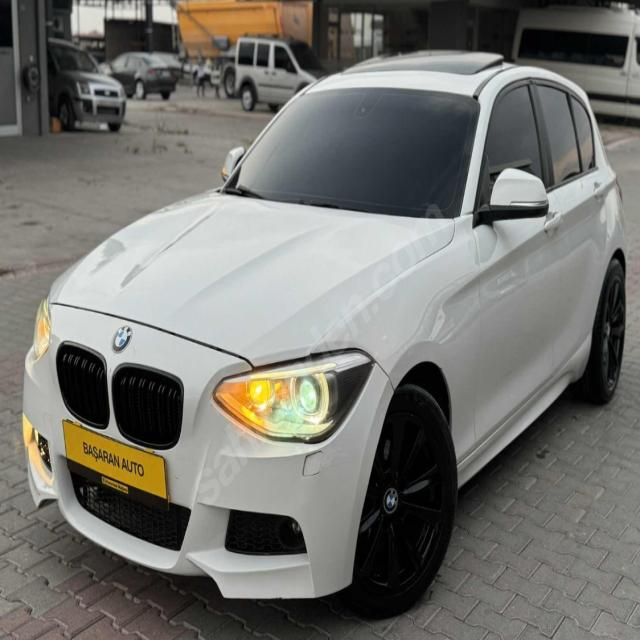bmw: (111, 322, 133, 355)
